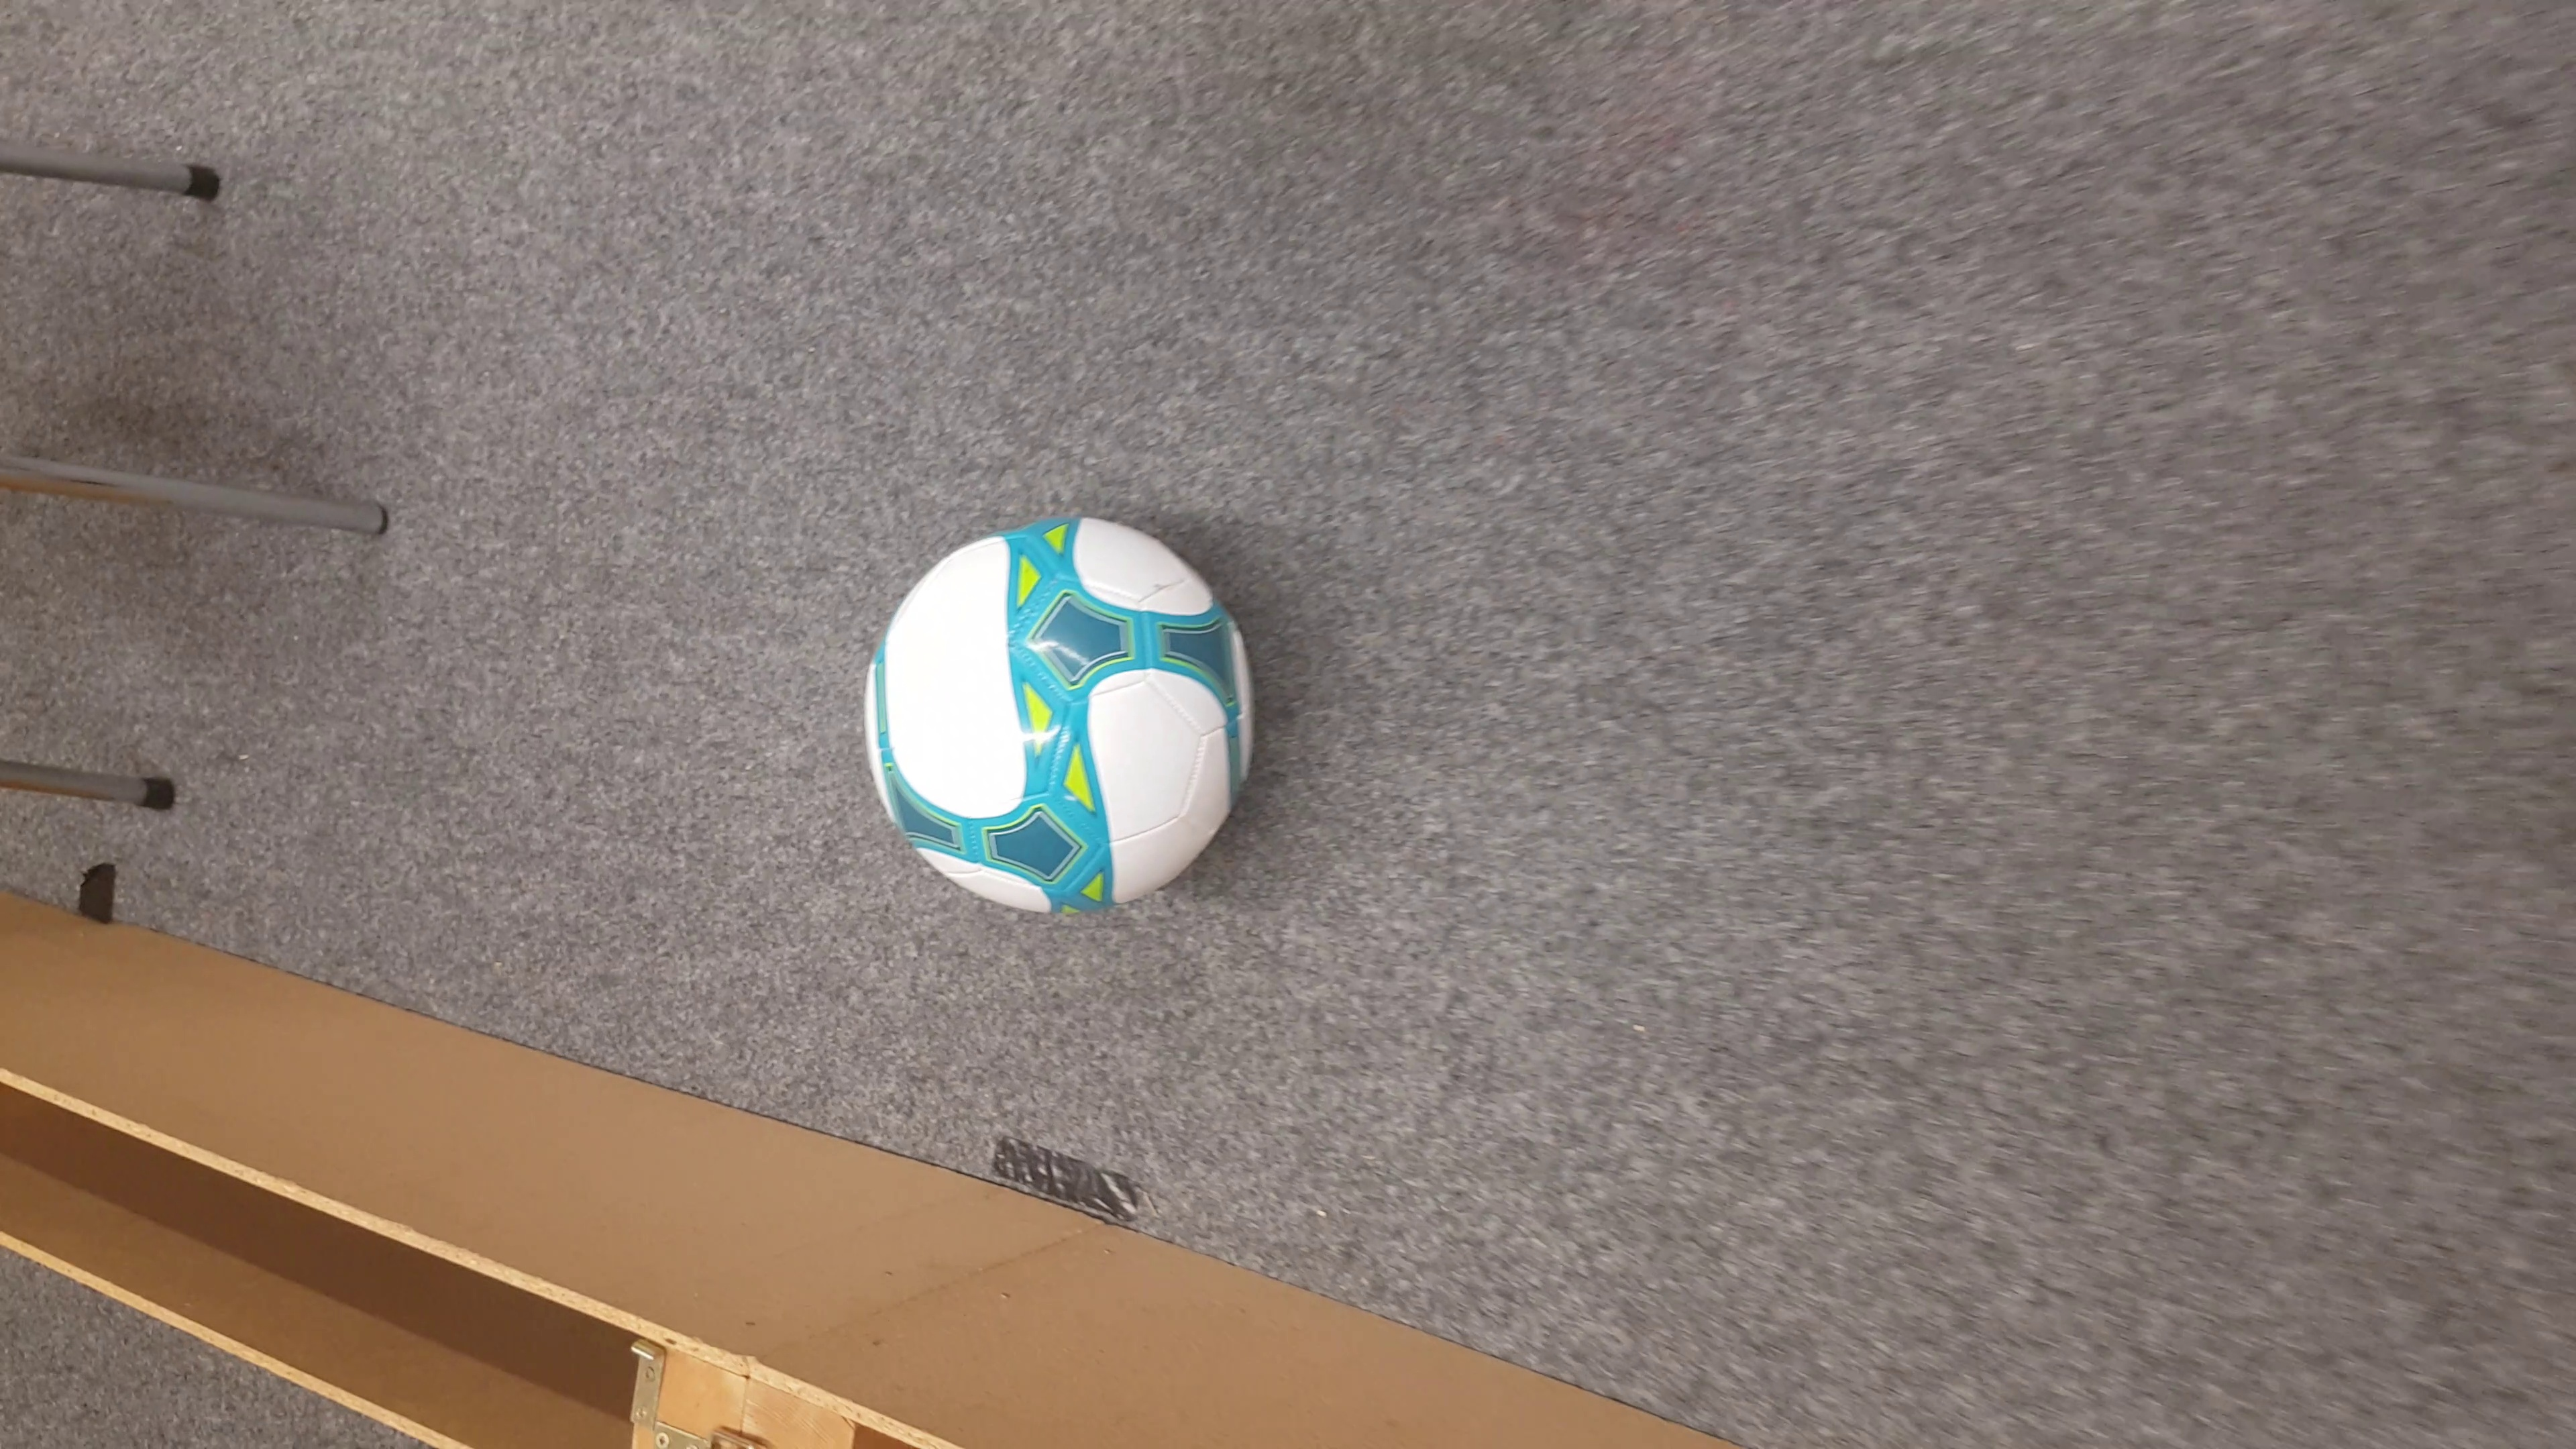kick: (869, 515, 1260, 913)
